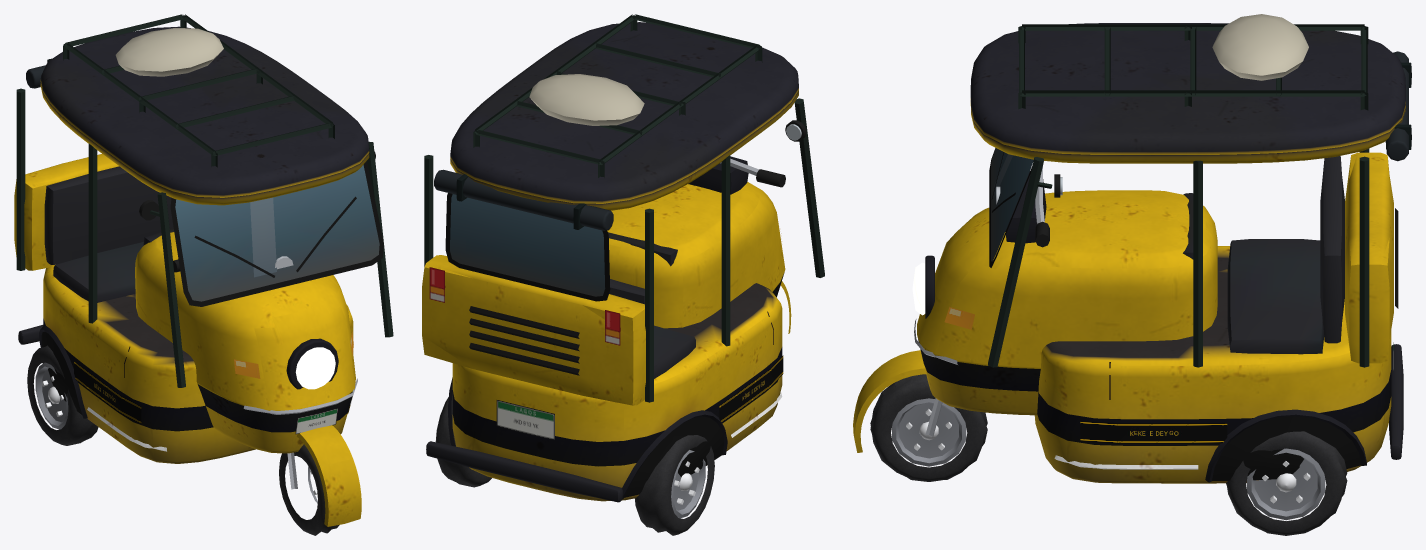
File: veh_keke-BXKY2DGr.glb
The picture shows the model from 3 angles, left to right: view 1: azimuth 30°, elevation 25°; view 2: azimuth 150°, elevation 25°; view 3: azimuth 270°, elevation 25°; orthographic projection. The views are drawn at different scales.
Parts seen in each view (by area): view 1: veh_keke_body, wheel_RR, wheel_F; view 2: veh_keke_body, wheel_RR, wheel_RL; view 3: veh_keke_body, wheel_F, wheel_RL.
Part boxes in pixels (box(x1,y1,x2,y2)): veh_keke_body: box(14, 14, 393, 526); wheel_RR: box(27, 345, 98, 445); wheel_F: box(279, 444, 339, 535); veh_keke_body: box(422, 14, 824, 502); wheel_RR: box(634, 435, 714, 535); wheel_RL: box(435, 391, 491, 487); veh_keke_body: box(853, 14, 1411, 483); wheel_F: box(870, 374, 987, 481); wheel_RL: box(1226, 431, 1347, 535).
Bounding box in the file's own units: 0.5888 × 0.9335 × 1.05.
Materials: 8 (3 with a texture image).
